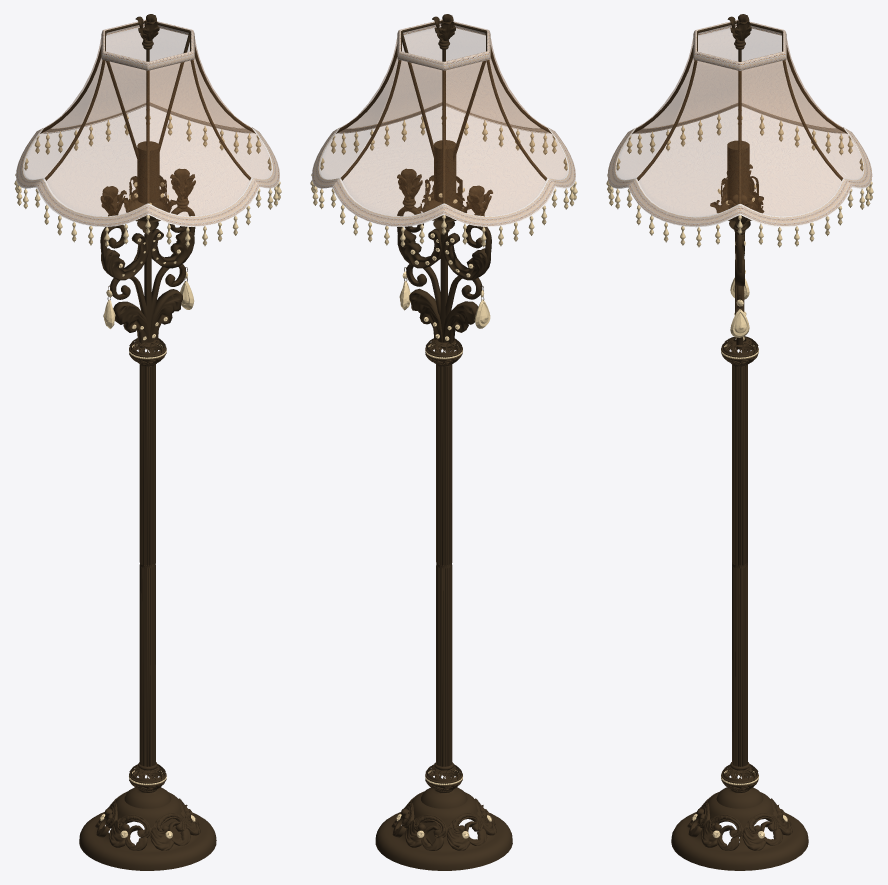
File: Floor_Lamp.glb
3 renders of one model, left to right at view 1: azimuth 30°, elevation 25°; view 2: azimuth 150°, elevation 25°; view 3: azimuth 270°, elevation 25°, orthographic.
Visible parts, largest first — view 1: Lamp, Lamp_Cover; view 2: Lamp, Lamp_Cover; view 3: Lamp, Lamp_Cover.
Boxes of the visible parts, x1,y1,x2,y2 form: Lamp: (14, 14, 281, 870); Lamp_Cover: (24, 28, 271, 215); Lamp: (310, 14, 577, 870); Lamp_Cover: (320, 26, 567, 215); Lamp: (606, 14, 873, 870); Lamp_Cover: (617, 28, 862, 216).
Bounding box in the file's own units: 0.5154 × 1.78 × 0.522.
7 materials, 2 textured.
